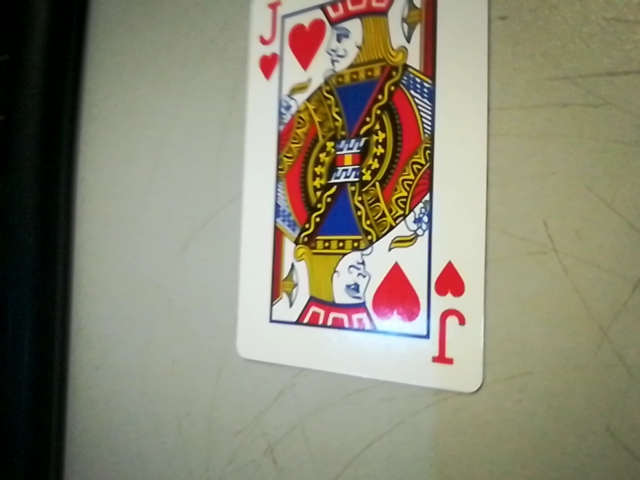hx j: (425, 260, 480, 375)
